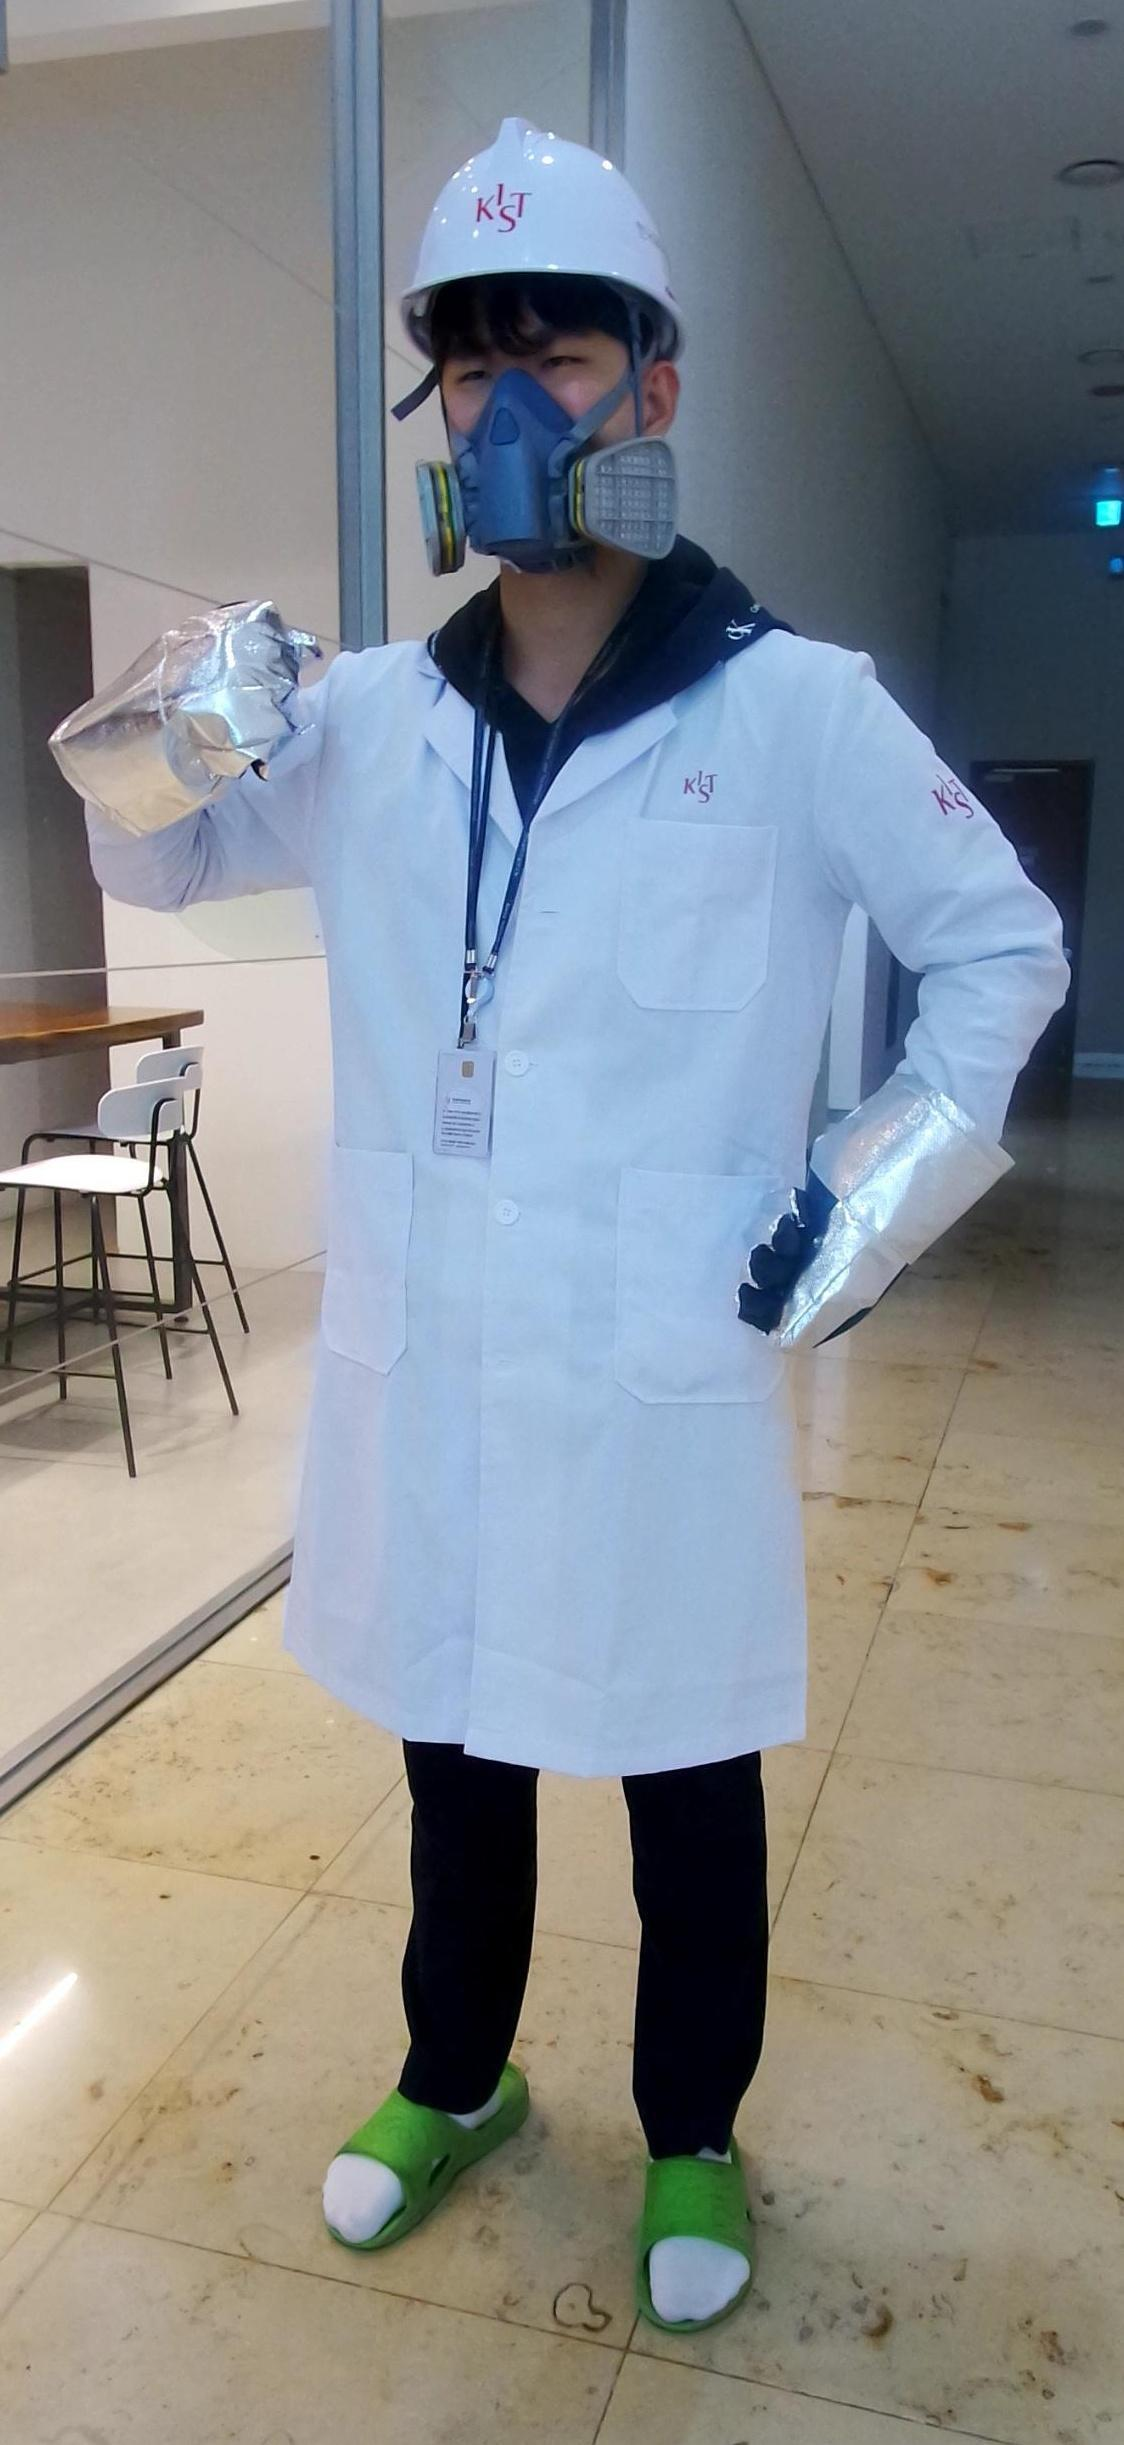lab_coat: (307, 632, 786, 1768)
